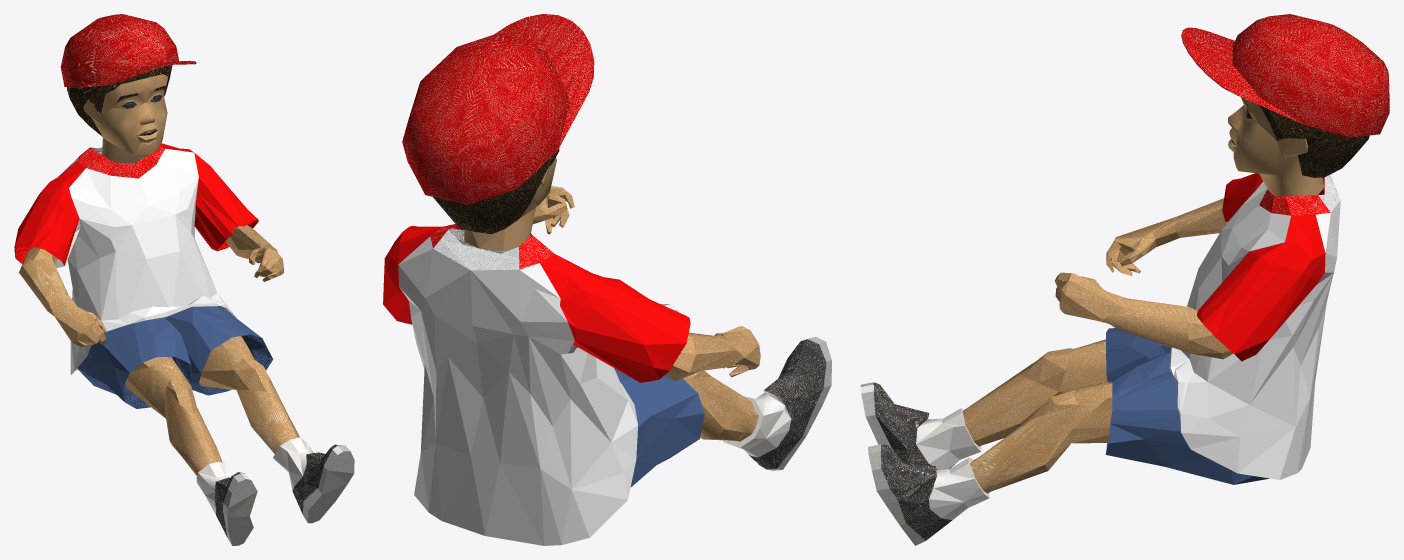
Rendered from kid.dae.
The picture shows the model from 3 angles, left to right: view 1: azimuth 30°, elevation 25°; view 2: azimuth 150°, elevation 25°; view 3: azimuth 270°, elevation 25°; orthographic projection. The views are drawn at different scales.
Visible parts, largest first — view 1: KID_SITTING (×18); view 2: KID_SITTING (×15); view 3: KID_SITTING (×18).
Boxes of the visible parts, <box> form: KID_SITTING (×18): <box>14,14,354,545</box>; KID_SITTING (×15): <box>383,14,831,545</box>; KID_SITTING (×18): <box>860,14,1389,545</box>.
Size of the model in its own units: 14.52 by 23.49 by 24.56.
